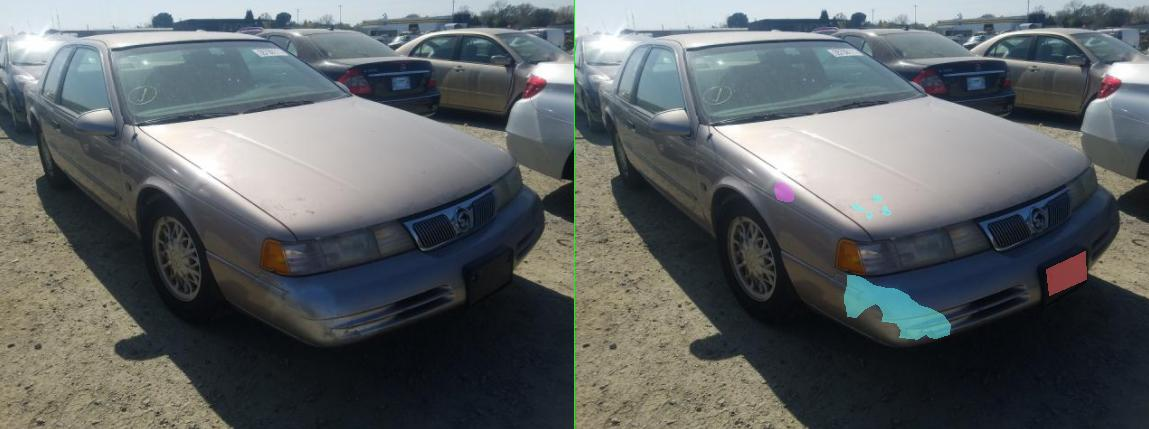Dent: (398, 182, 436, 201)
Flaking: (538, 275, 751, 339), (552, 204, 583, 210), (615, 206, 631, 215), (597, 195, 615, 201), (583, 211, 595, 218)
Missing part: (943, 251, 1023, 295)
